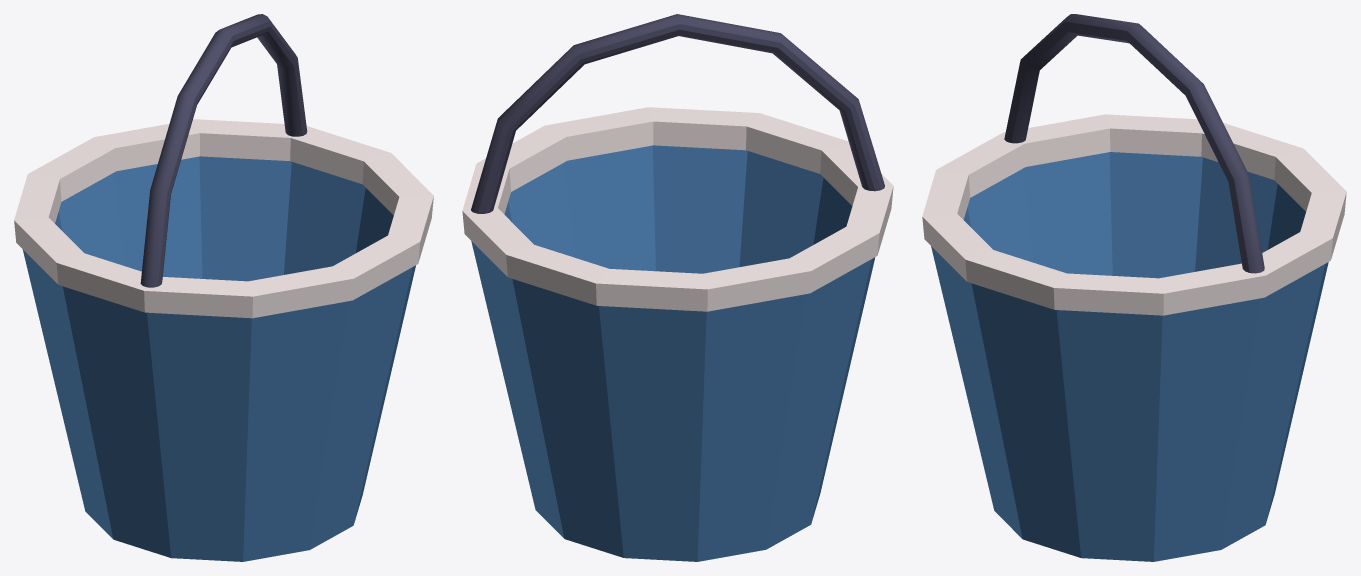
File: Bin_B.fbx
The picture shows the model from 3 angles, left to right: view 1: azimuth 30°, elevation 25°; view 2: azimuth 150°, elevation 25°; view 3: azimuth 270°, elevation 25°; orthographic projection. The views are drawn at different scales.
Visible parts, largest first — view 1: Bin_B; view 2: Bin_B; view 3: Bin_B.
Boxes of the visible parts, x1,y1,x2,y2 form: Bin_B: (14, 14, 433, 561); Bin_B: (462, 14, 893, 561); Bin_B: (922, 14, 1346, 561).
Bounding box in the file's own units: 20.85 × 25.97 × 20.85.
1 material, 1 textured.
